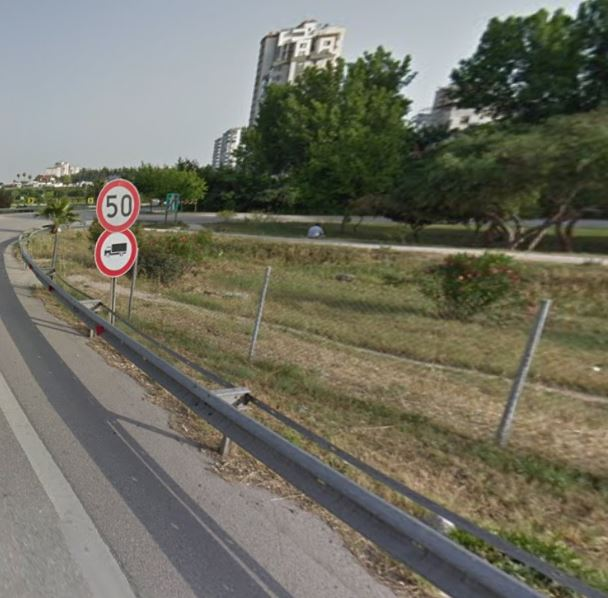50 Km Hiz Siniri: (97, 177, 138, 229)
